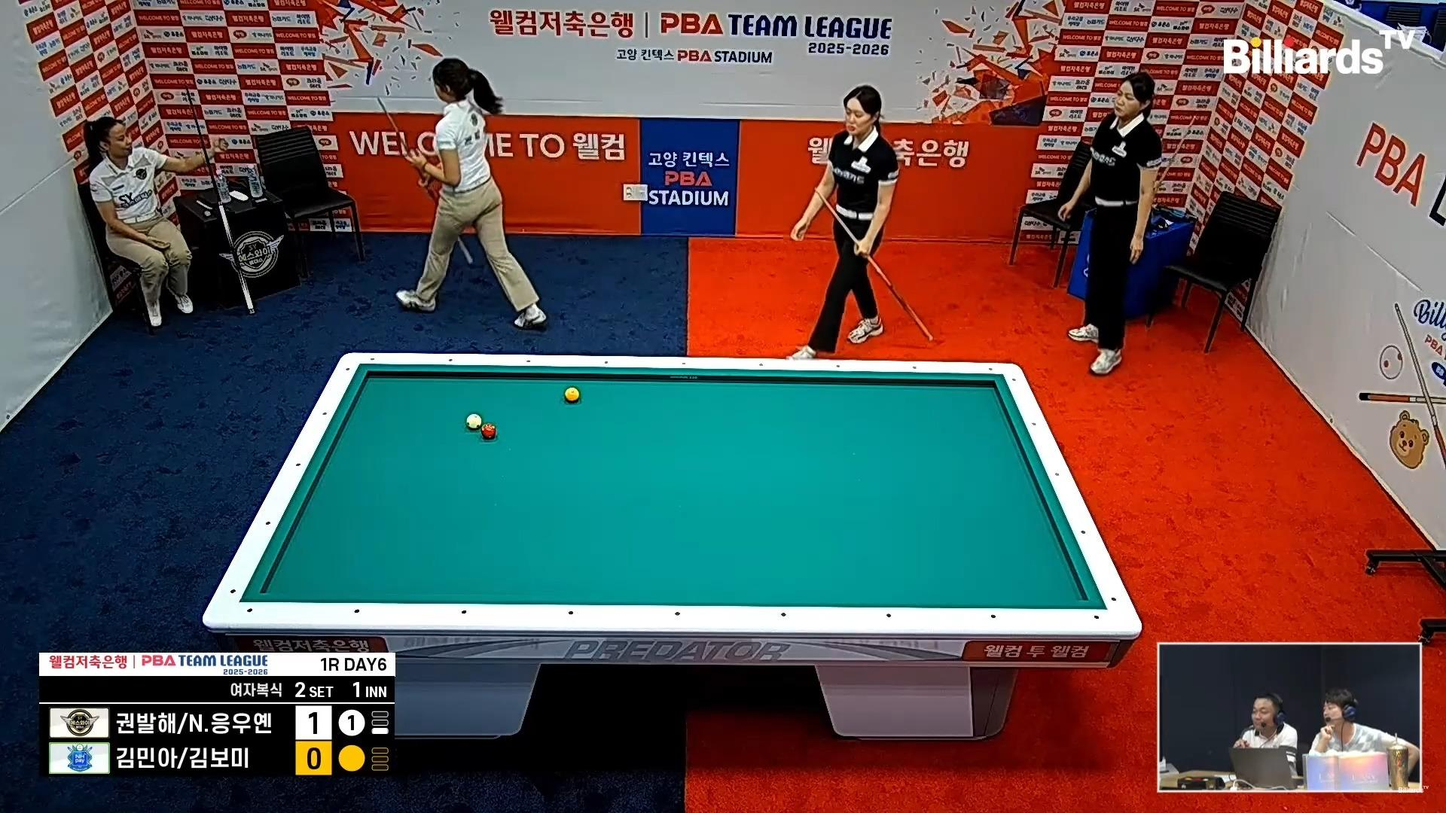billiard-ball-Red: (482, 422, 495, 441)
billiard-ball-Yellow: (563, 385, 580, 403)
billiard-ball-white: (465, 412, 481, 431)
